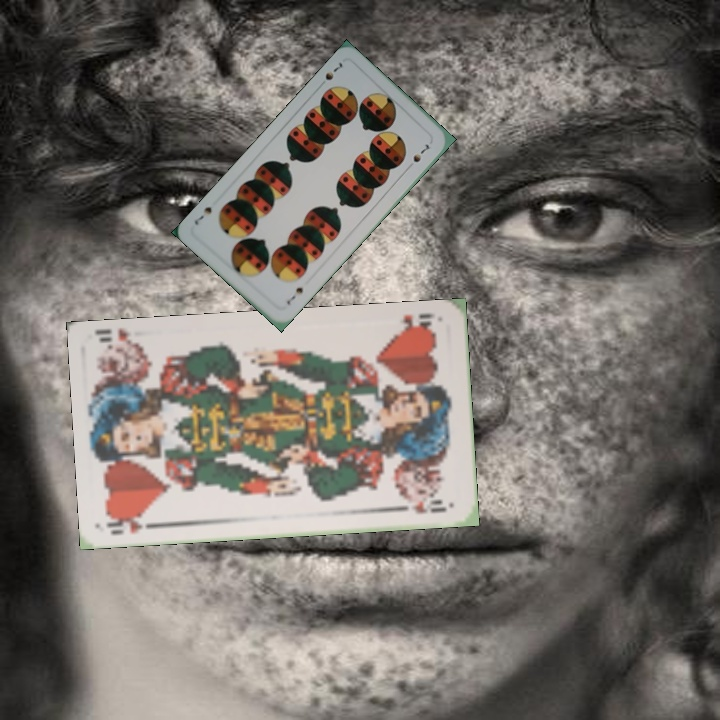HO: (103, 511, 163, 538), (396, 309, 439, 336)
S7: (315, 57, 345, 90), (283, 283, 305, 307)
